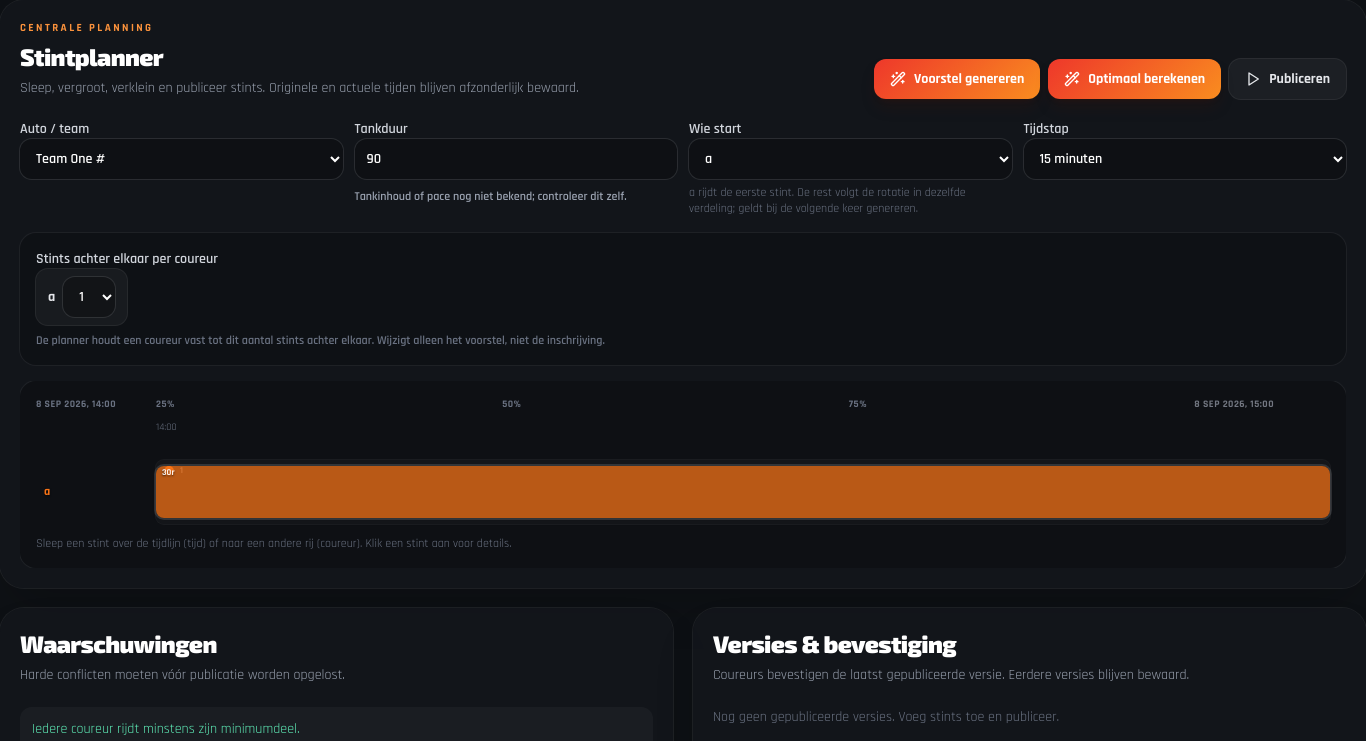
Test: waits for publish success and prevents duplicate submissions
Step 1. Click the button "Publiceren" → (1288,79), box [1229,59,1346,99]
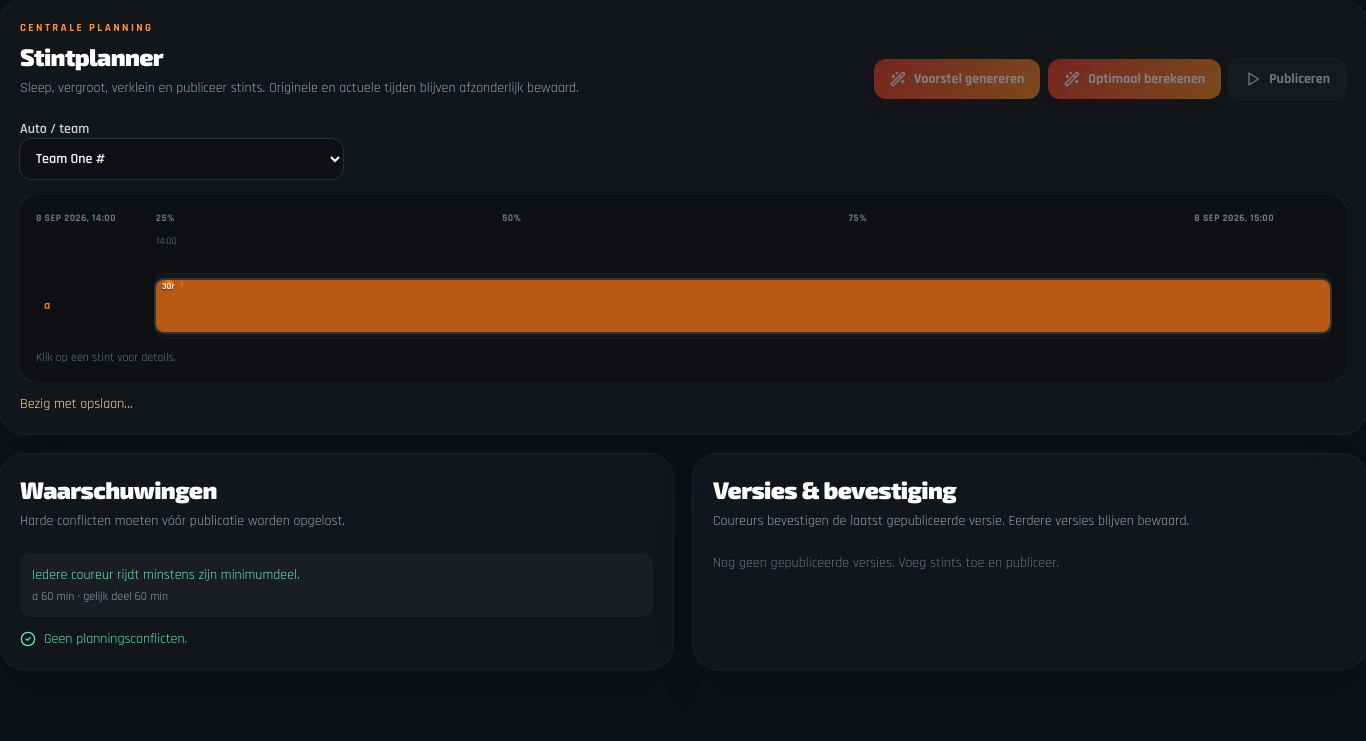
expect the text "Planning gepubliceerd en bevestigingen aangevraagd." is not shown: met
expect the button "Publiceren" is disabled: met
Step 2. Click the button "Publiceren" → (1288,79), box [1229,59,1346,99]
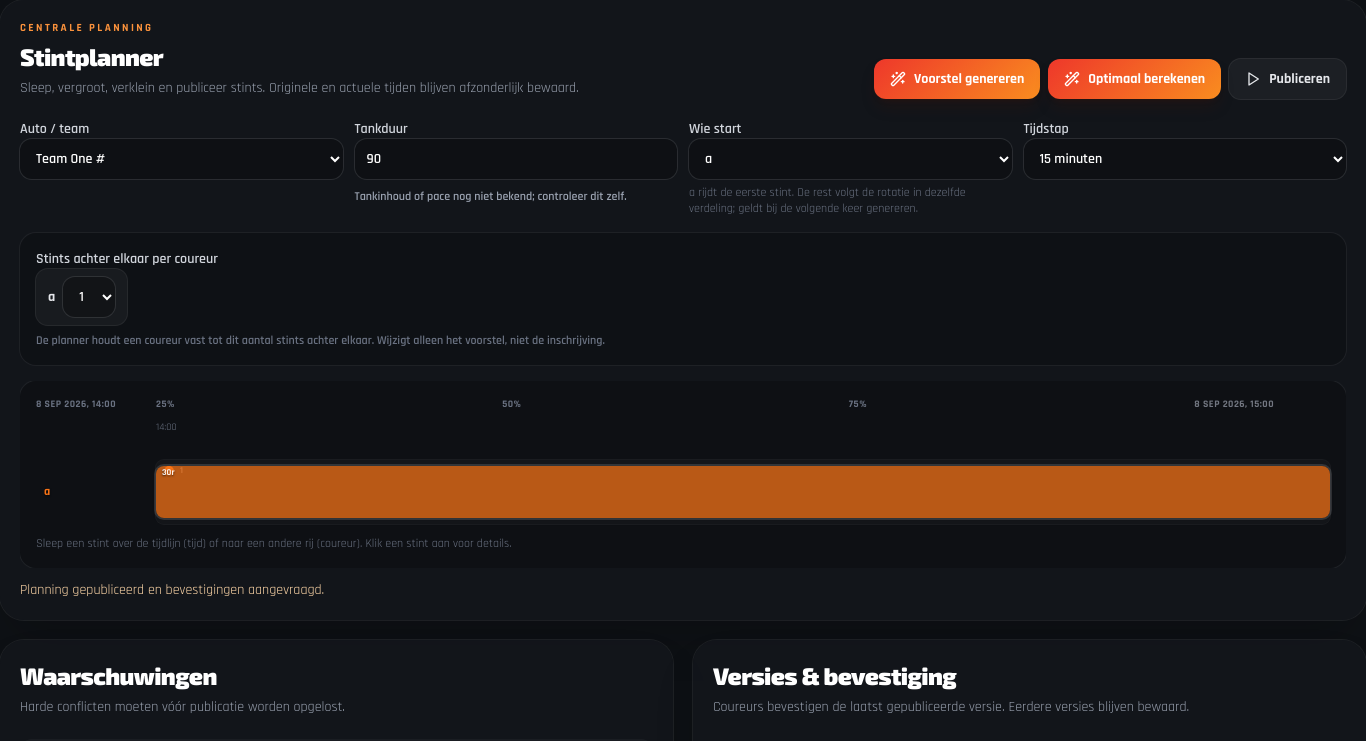
expect the text "Planning gepubliceerd en bevestigingen aangevraagd." is shown: met, box [20,581,324,599]
